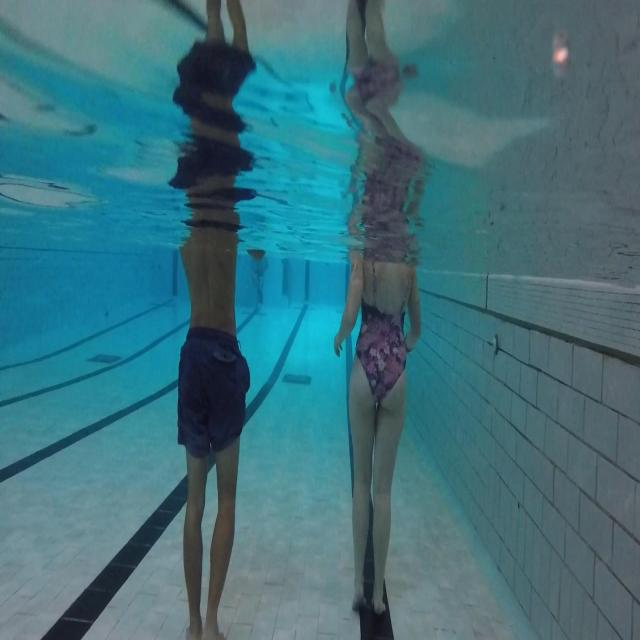human: (167, 1, 263, 638), (333, 1, 427, 616)
